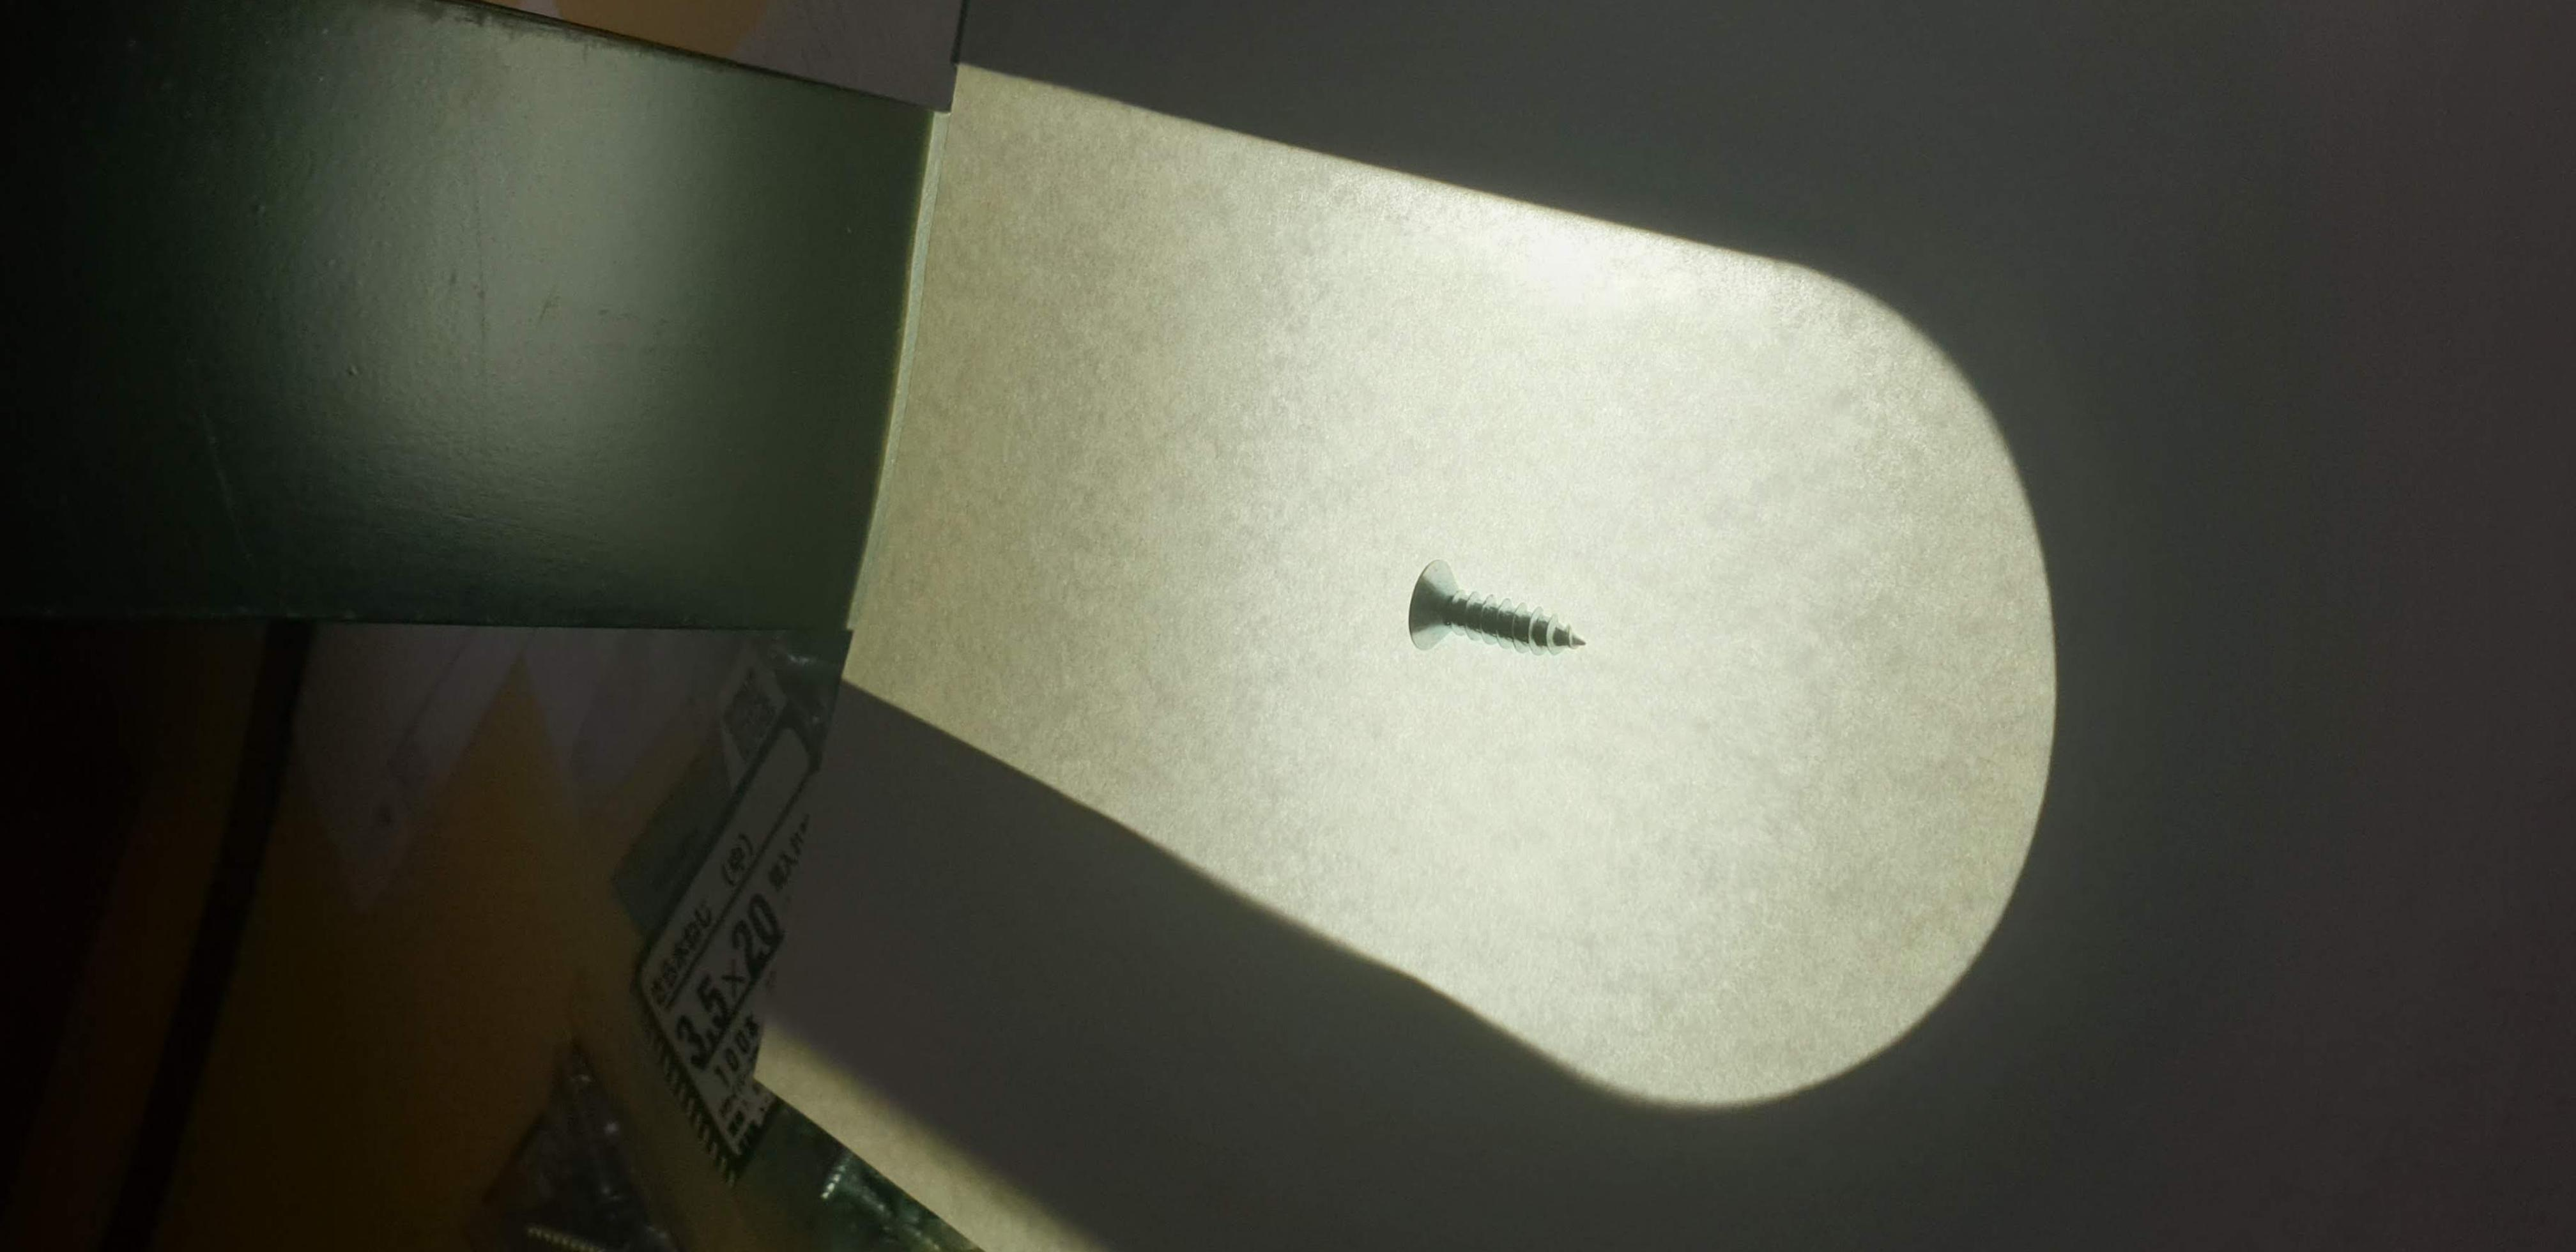S003: (1367, 539, 1644, 679)
